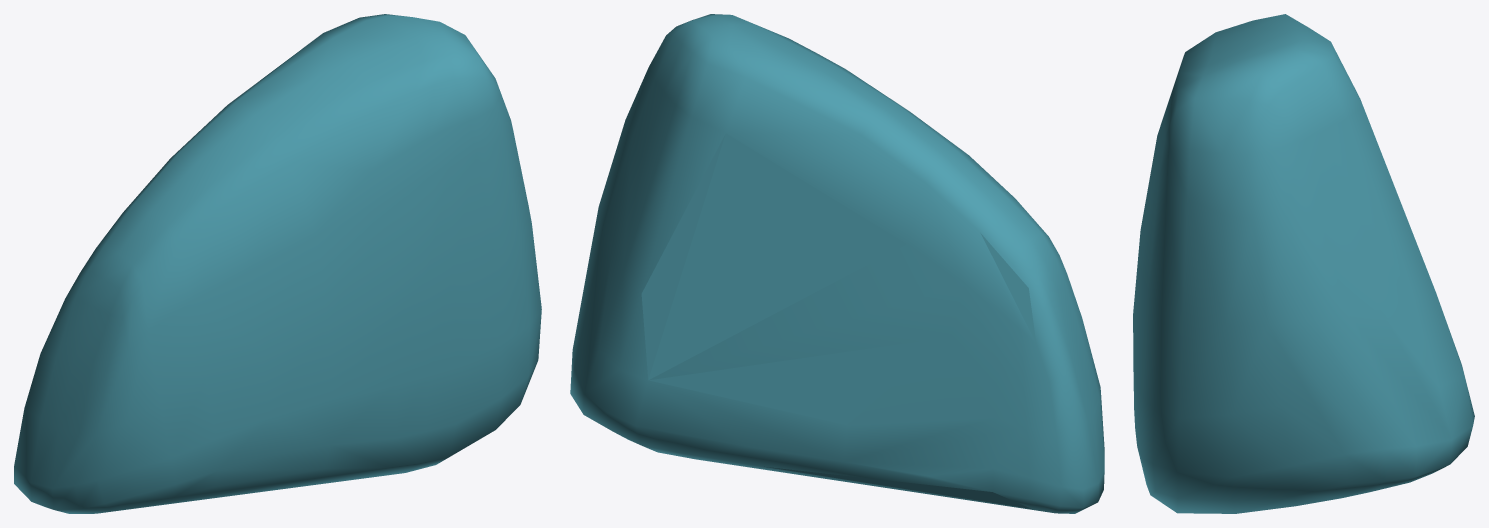
Rendered from COL_Alpha_Surface_003_convex_hull.dae.
3 renders of one model, left to right at view 1: azimuth 30°, elevation 25°; view 2: azimuth 150°, elevation 25°; view 3: azimuth 270°, elevation 25°, orthographic. The views are drawn at different scales.
Parts seen in each view (by area): view 1: COL_Alpha_Surface_003_convex_hull; view 2: COL_Alpha_Surface_003_convex_hull; view 3: COL_Alpha_Surface_003_convex_hull.
Boxes of the visible parts, x1=… form: COL_Alpha_Surface_003_convex_hull: x1=14, y1=14, x2=541, y2=513; COL_Alpha_Surface_003_convex_hull: x1=570, y1=14, x2=1104, y2=513; COL_Alpha_Surface_003_convex_hull: x1=1133, y1=14, x2=1474, y2=513.
Size of the model in its own units: 10.65 by 5.76 by 8.5.
